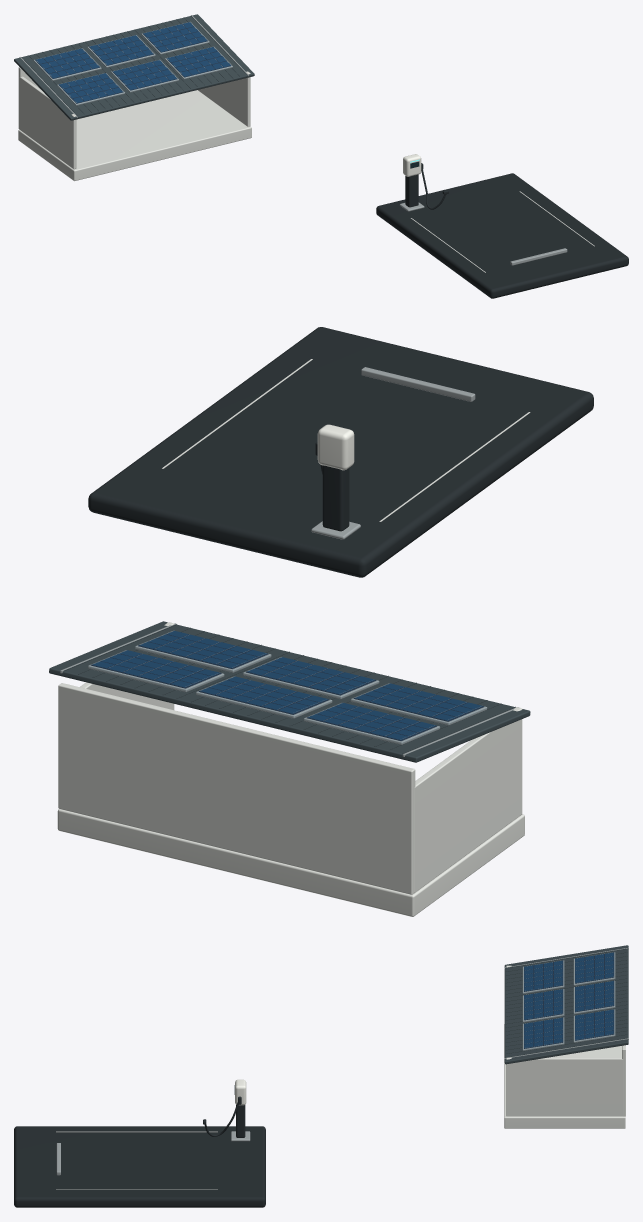
File: solar-ev-system.glb
The picture shows the model from 3 angles, top to bottom: view 1: azimuth 30°, elevation 25°; view 2: azimuth 150°, elevation 25°; view 3: azimuth 270°, elevation 25°; orthographic projection. The views are drawn at different scales.
Visible parts, largest first — view 1: EV_Driveway, PV_Service_Room_Base, PV_Integrated_Sloped_Roof, PV_Service_Room_Side, PV_Service_Room_Side.001, Charger_Pedestal; view 2: EV_Driveway, PV_Service_Room_Rear, PV_Integrated_Sloped_Roof, PV_Service_Room_Side, PV_Service_Room_Base, Charger_Pedestal, Charger_Housing, EV_Parking_Stop; view 3: EV_Driveway, PV_Service_Room_Side.001, PV_Integrated_Sloped_Roof, PV_Service_Room_Base.
Boxes of the visible parts, box(x1,y1,x2,y2) form: EV_Driveway: box(376, 173, 628, 298); PV_Service_Room_Base: box(18, 90, 251, 181); PV_Integrated_Sloped_Roof: box(14, 14, 254, 120); PV_Service_Room_Side: box(19, 76, 76, 169); PV_Service_Room_Side.001: box(198, 71, 250, 126); Charger_Pedestal: box(405, 174, 418, 207); EV_Driveway: box(88, 327, 593, 577); PV_Service_Room_Rear: box(58, 683, 415, 894); PV_Integrated_Sloped_Roof: box(49, 621, 530, 762); PV_Service_Room_Side: box(414, 707, 522, 892); PV_Service_Room_Base: box(57, 809, 524, 916); Charger_Pedestal: box(322, 465, 349, 531); Charger_Housing: box(317, 424, 354, 470); EV_Parking_Stop: box(361, 367, 475, 401); EV_Driveway: box(14, 1126, 265, 1207); PV_Service_Room_Side.001: box(506, 1057, 623, 1116); PV_Integrated_Sloped_Roof: box(504, 945, 628, 1064); PV_Service_Room_Base: box(504, 1024, 625, 1128).
Bounding box in the file's own units: 14.38 × 3.39 × 21.24.
